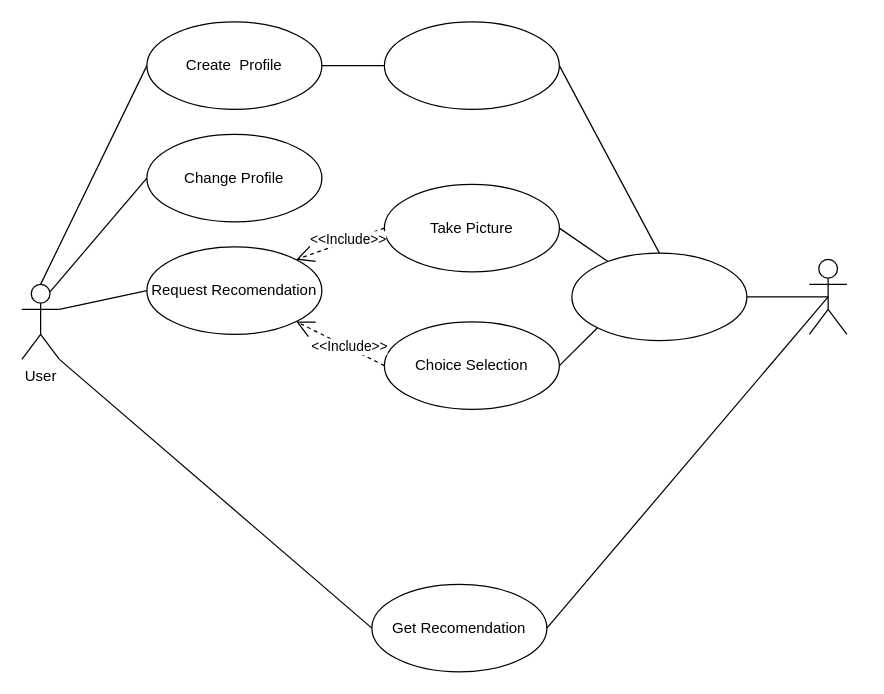
The diagram is 884 pixels wide and 694 high, and some of its shapes have lost their labels. The centre of each missing label's shape, as x and y in pixels:
"Add details" belongs at point 471,65.
"Confirmation To Send" belongs at point 659,296.
"Server DB" belongs at point 827,296.
